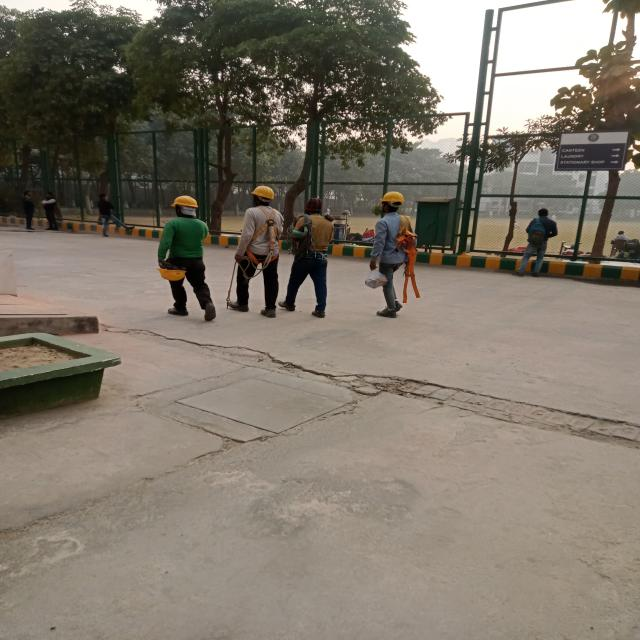no jacket: (160, 195, 216, 320), (233, 184, 281, 317), (368, 190, 411, 321)
unsafe: (288, 198, 328, 318), (516, 203, 560, 283), (90, 196, 133, 240), (21, 187, 37, 230), (44, 191, 58, 229)
